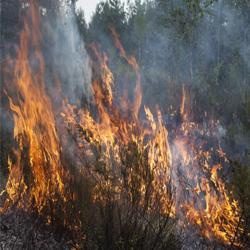fire: (16, 82, 54, 184), (208, 191, 236, 236), (90, 119, 116, 148), (149, 138, 168, 172)
